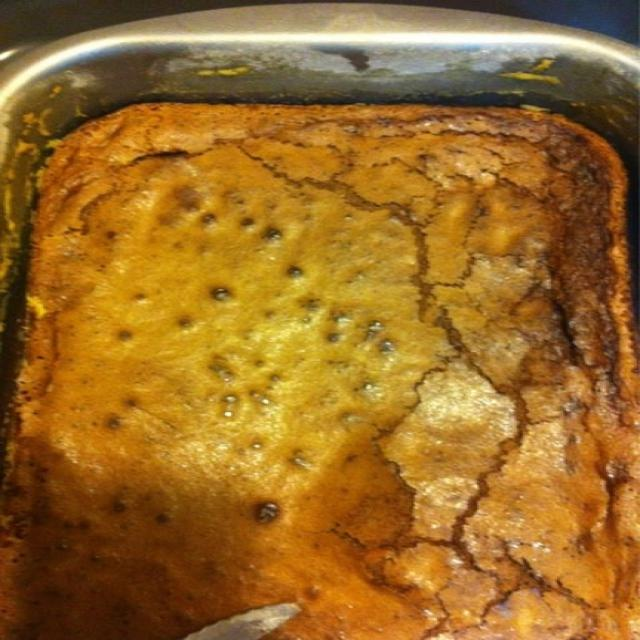蛋糕甜品: (9, 23, 627, 637)
